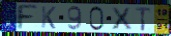0: (88, 6, 105, 31)
9: (66, 5, 82, 31)
F: (15, 4, 39, 31)
K: (40, 6, 57, 30)
T: (134, 7, 153, 32)
X: (110, 7, 134, 31)
